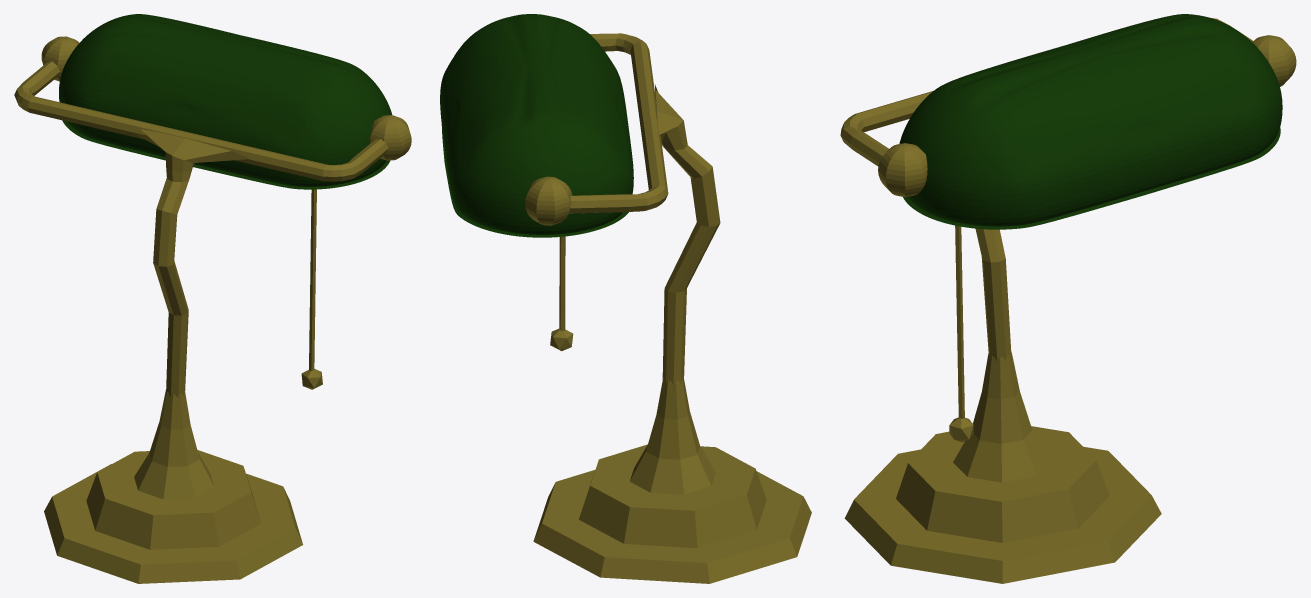
The model's file is Bank_Lamp.glb.
3 views of the same model, side by side, from view 1: azimuth 30°, elevation 25°; view 2: azimuth 150°, elevation 25°; view 3: azimuth 270°, elevation 25° (orthographic). The views are drawn at different scales.
Parts seen in each view (by area): view 1: Lamp.001; view 2: Lamp.001; view 3: Lamp.001.
Boxes of the visible parts, x1,y1,x2,y2 form: Lamp.001: [14, 14, 411, 583]; Lamp.001: [440, 14, 811, 583]; Lamp.001: [840, 14, 1296, 583].
Bounding box in the file's own units: 4.79 × 6.22 × 4.94.
1 material, 1 textured.
